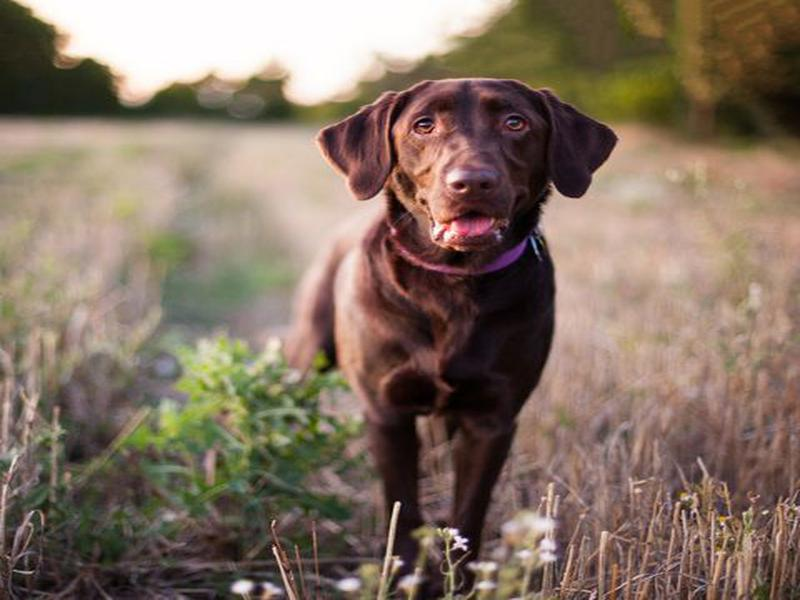dog_stand: (266, 72, 623, 600)
